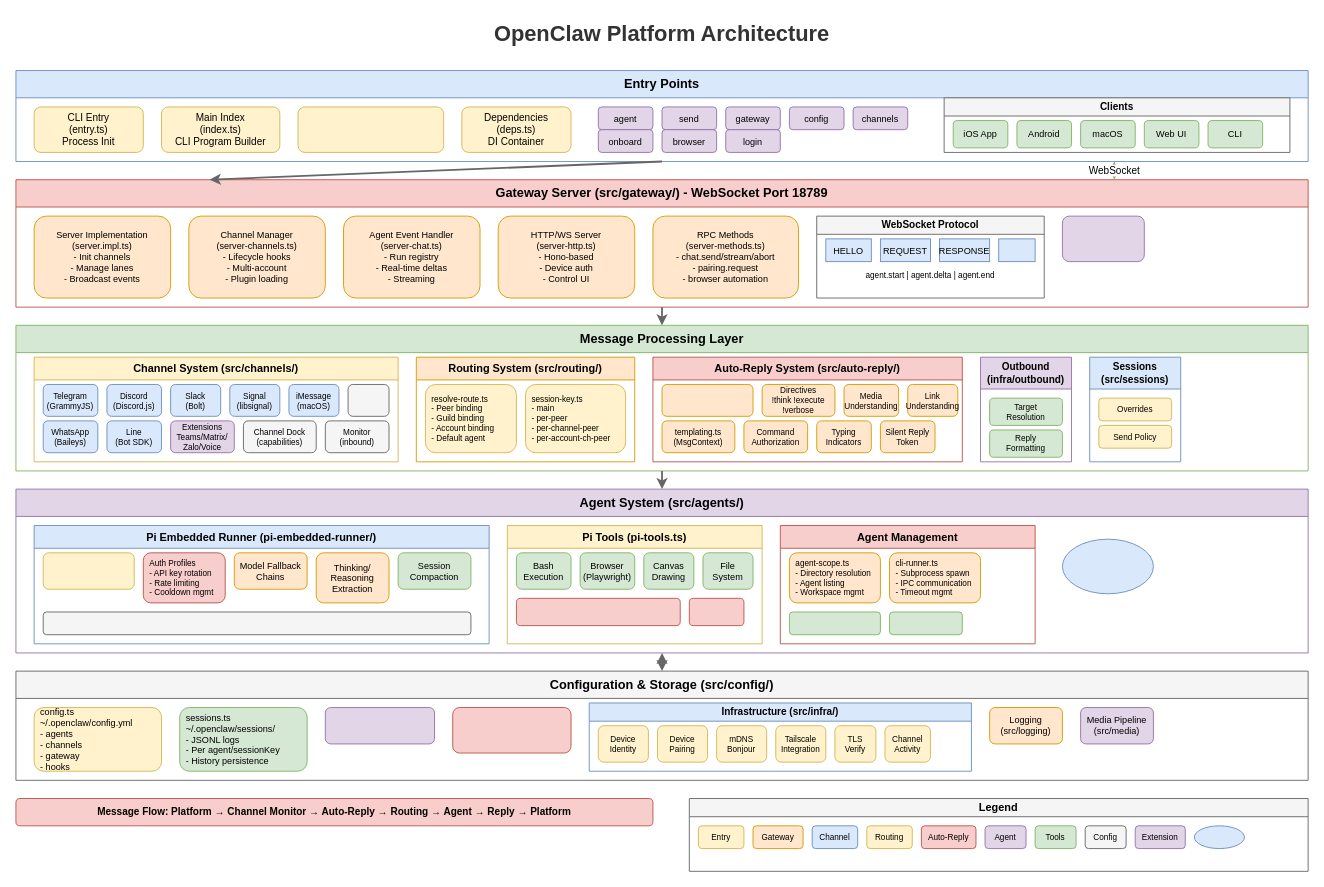
This 1324x887 diagram has some shape labels left out. The shapes that lost their labels are listed below. From the top down, each one's centre as x and y in pixels, then its label:
At (x=370, y=129): "Command Registry (program/command-registry.ts) All CLI Commands".
At (x=1016, y=250): "EVENT".
At (x=1103, y=238): "OpenAI /OpenResponses API".
At (x=368, y=400): "Plugin System".
At (x=707, y=400): "get-reply.ts Main Processing Flow".
At (x=88, y=570): "run.ts Main Agent Loop".
At (x=1107, y=566): "Claude API (Anthropic)".
At (x=256, y=623): "@mariozechner/pi-agent-core (Claude AI Framework)".
At (x=598, y=611): "Tool Policies (allowlist/denylist)".
At (x=716, y=611): "Exec Approval".
At (x=834, y=623): "Skills Registration".
At (x=925, y=623): "Identity Links".
At (x=379, y=725): "plugin-config.ts Plugin Enablement".
At (x=511, y=730): "credentials/ ~/.openclaw/credentials/ Web provider creds".
At (x=1218, y=837): "External".
